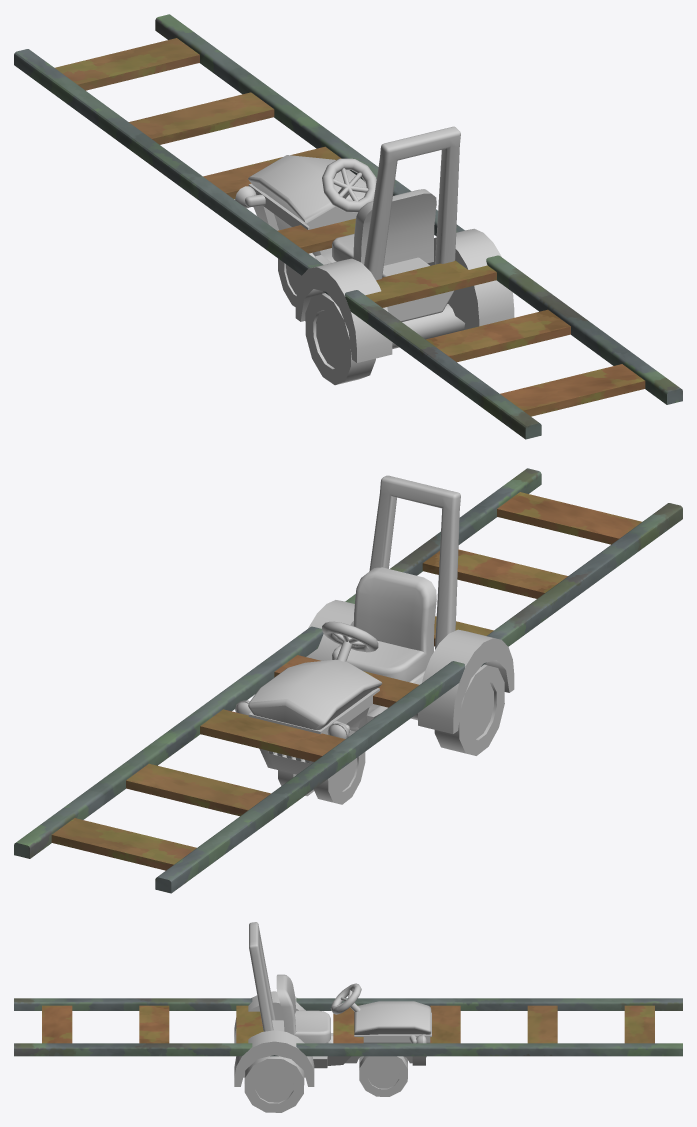
The model's file is Rail tracteur.fbx.
3 views of the same model, one above another, from view 1: azimuth 30°, elevation 25°; view 2: azimuth 150°, elevation 25°; view 3: azimuth 270°, elevation 25° (orthographic). The views are drawn at different scales.
Visible parts, largest first — view 1: Rail, Tracteur; view 2: Rail, Tracteur; view 3: Rail, Tracteur.
Part boxes in pixels (x1,y1,x2,y2): Rail: [14, 14, 682, 439]; Tracteur: [235, 126, 514, 385]; Rail: [14, 468, 682, 893]; Tracteur: [235, 475, 514, 804]; Rail: [14, 998, 682, 1056]; Tracteur: [234, 922, 431, 1112].
Size of the model in its own units: 239 by 345 by 1342.
